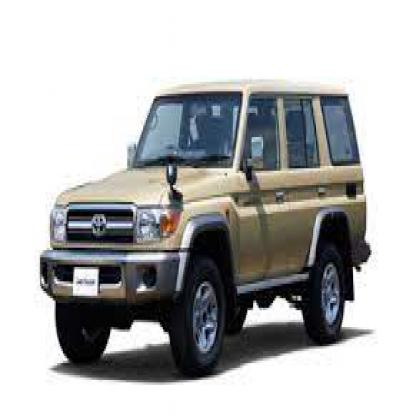jeep: (37, 65, 375, 368)
